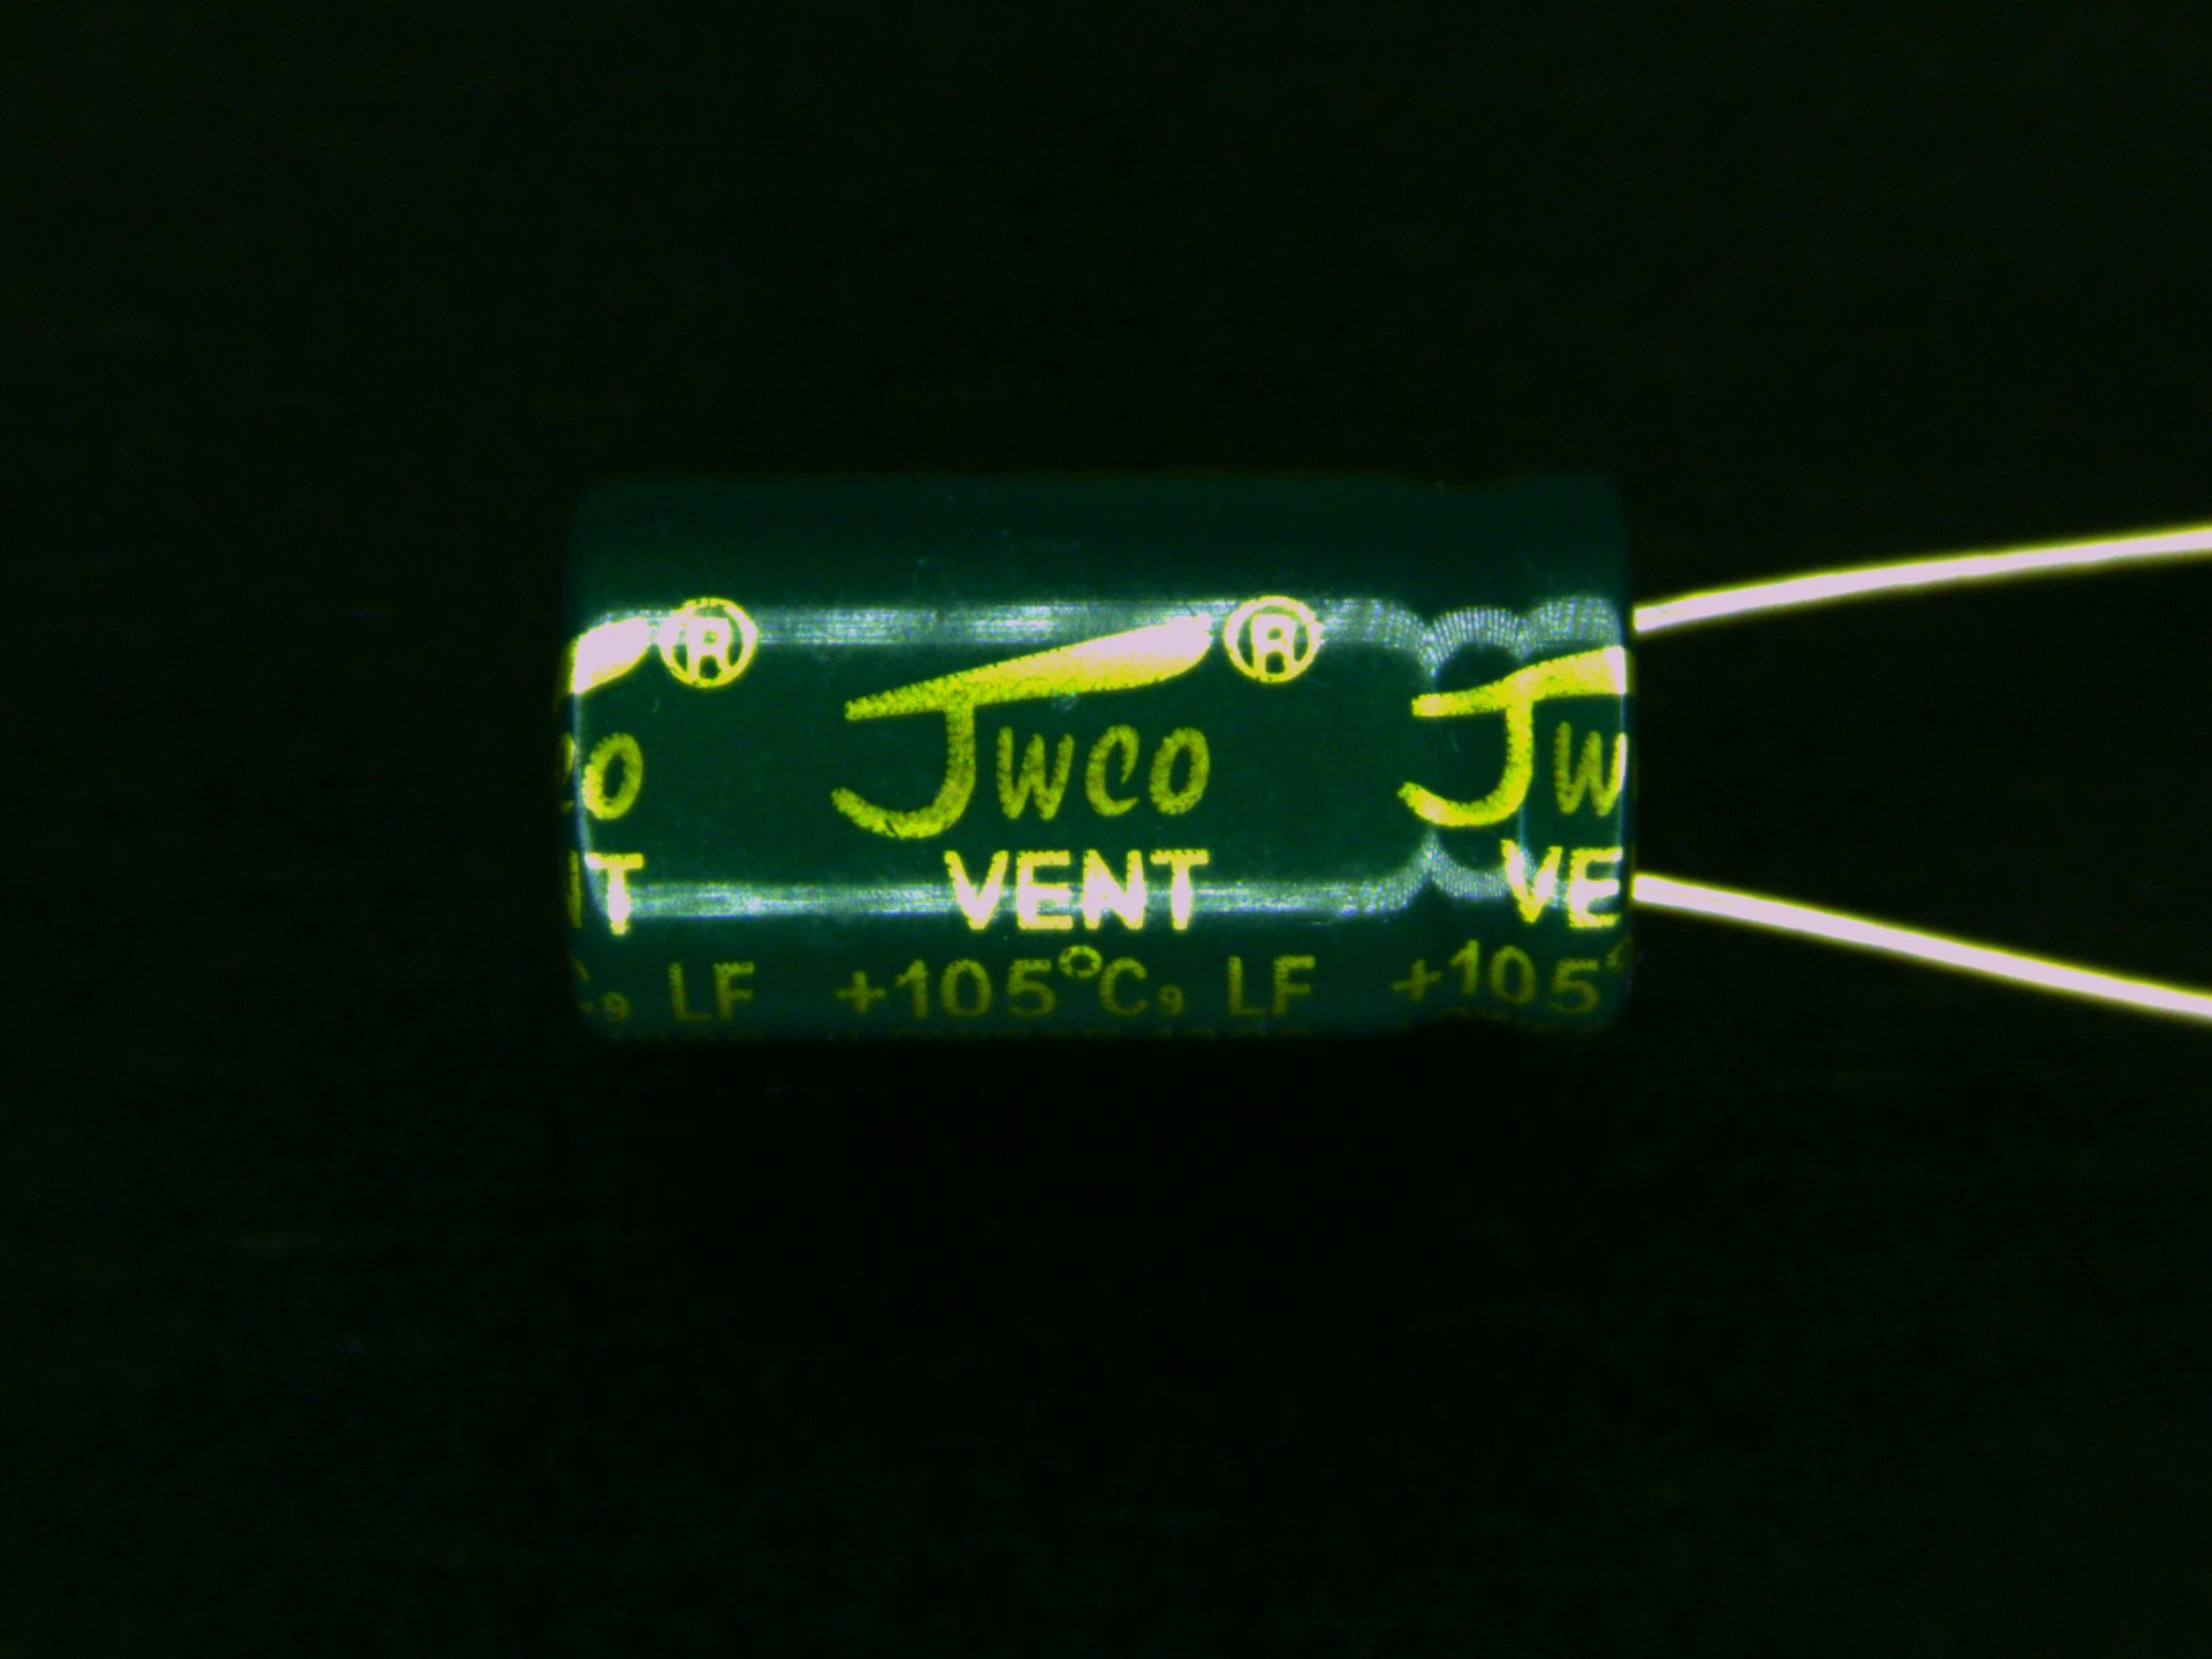c1: (552, 471, 1801, 1051)
